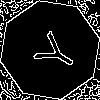Y: (25, 25, 81, 78)
